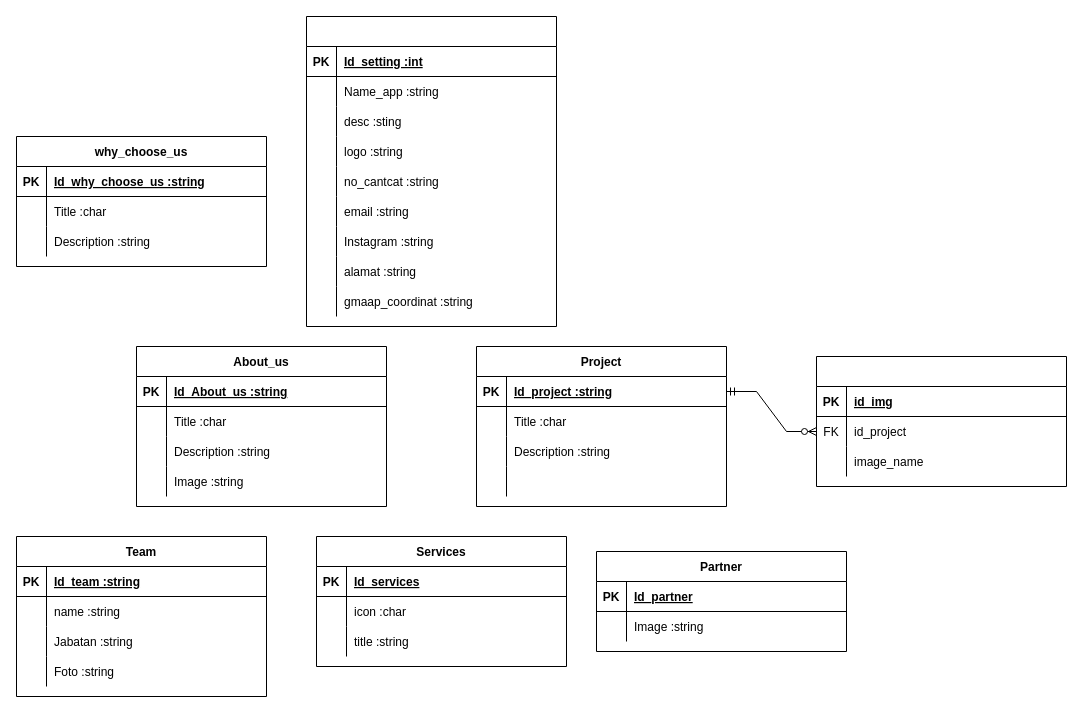
The diagram is 1083 pixels wide and 713 high, and some of its shapes have lost their labels. Each missing label, with the box of its shape:
App_Setting: (306, 16, 556, 326)
Project_img: (816, 356, 1066, 486)
